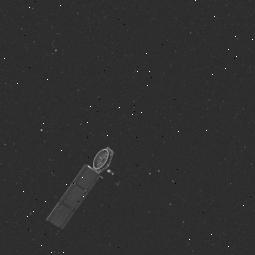earth_observation_sat_1: (67, 133, 131, 204)
